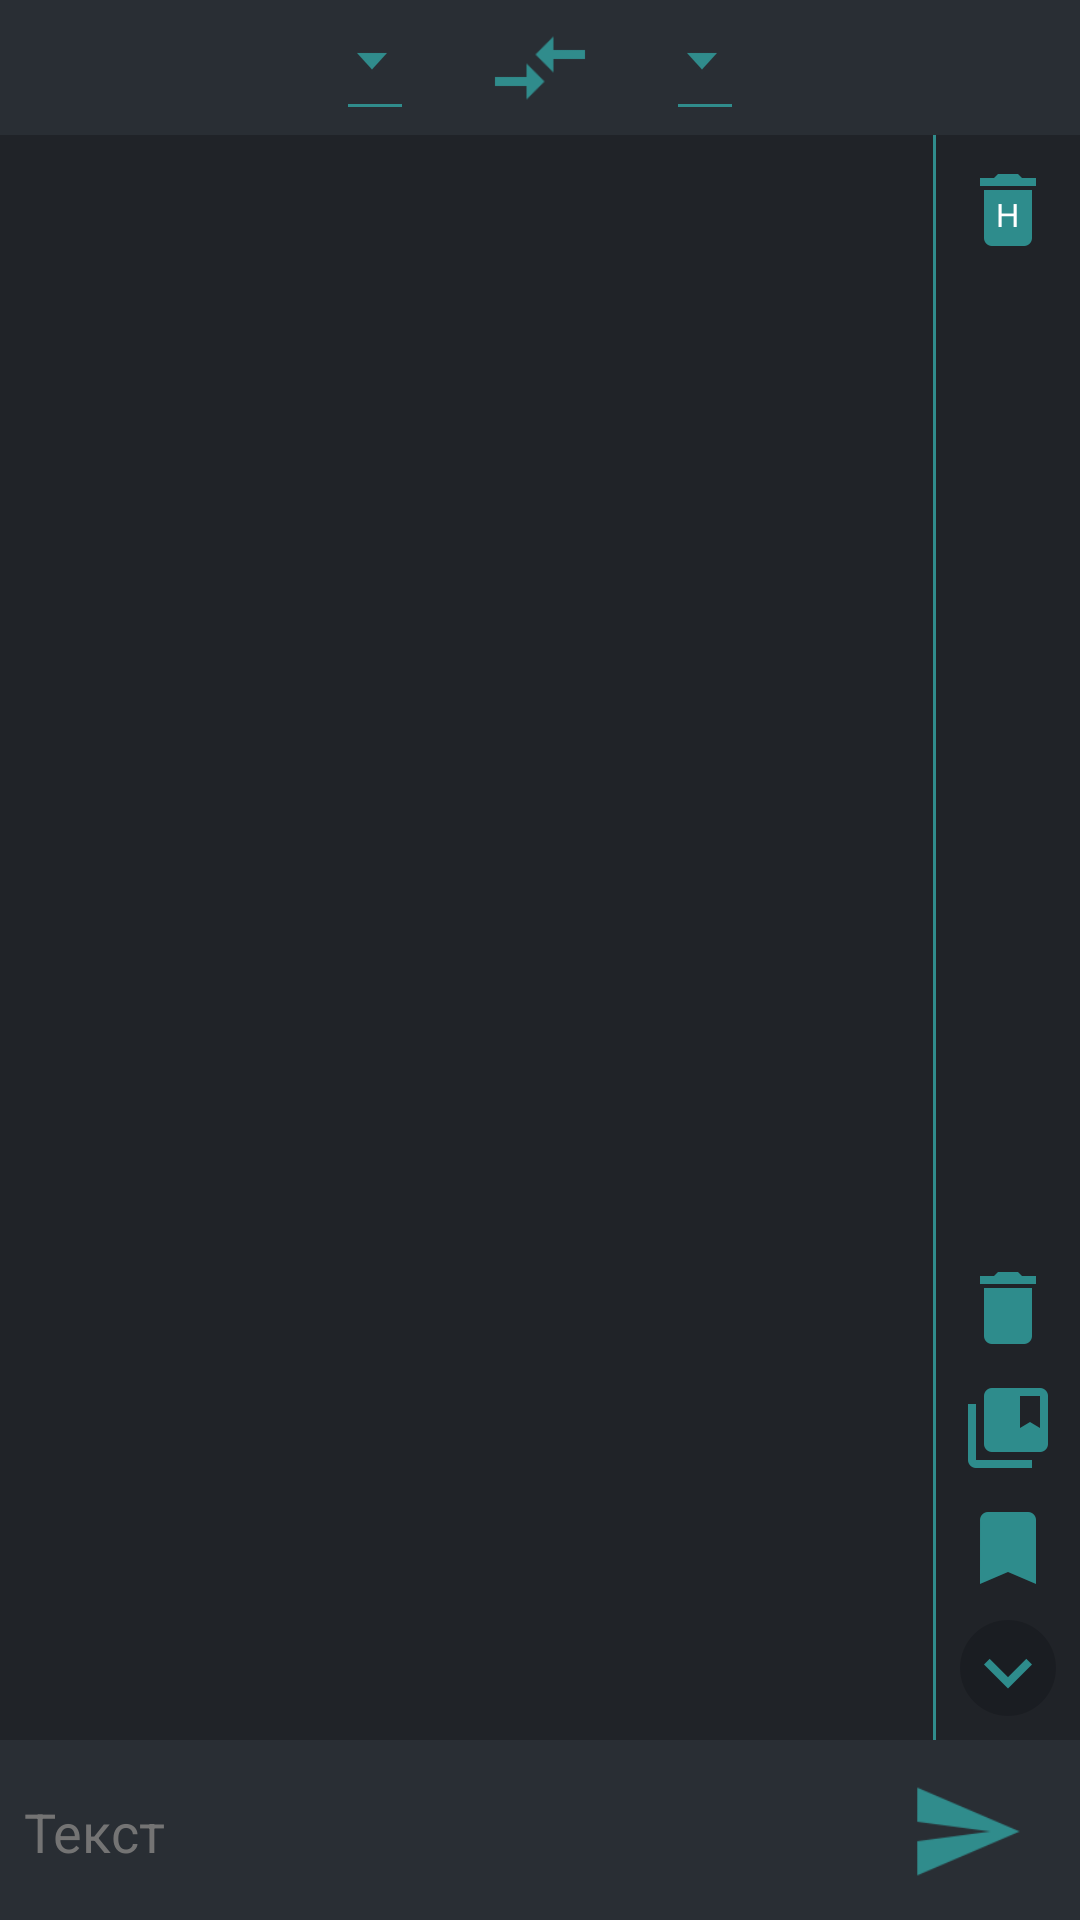

Icon click points for this 1080px×1920px phone screenshot, format [x,y]:
allmark: [1008,1428]
delete: [1008,1308]
deletehist: [1008,210]
down: [1008,1673]
mark: [1008,1548]
send: [968,1831]
switch: [540,68]
